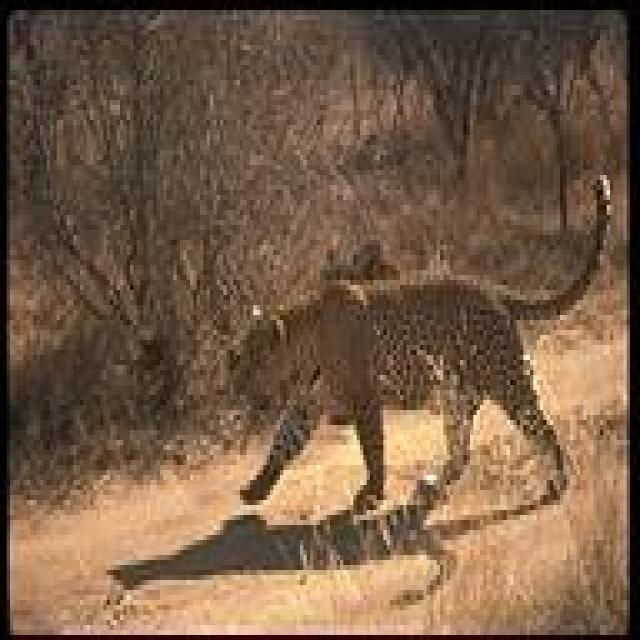Leopard: (220, 245, 584, 520)
